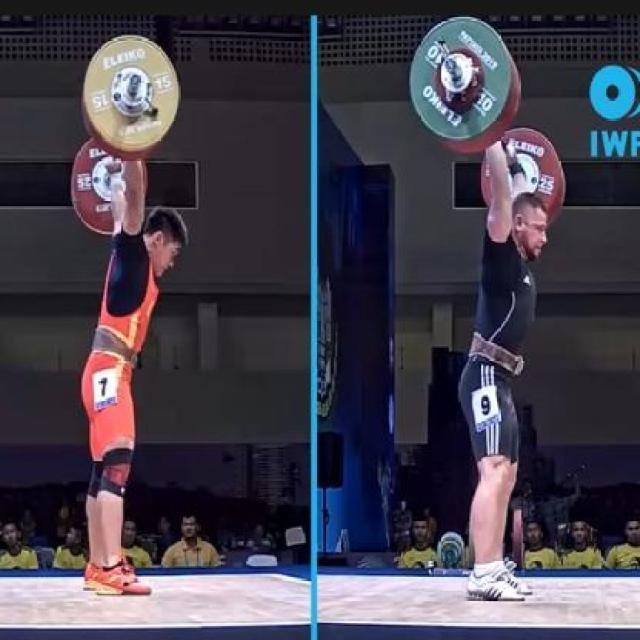barbell: (404, 16, 517, 146), (81, 31, 183, 158)
